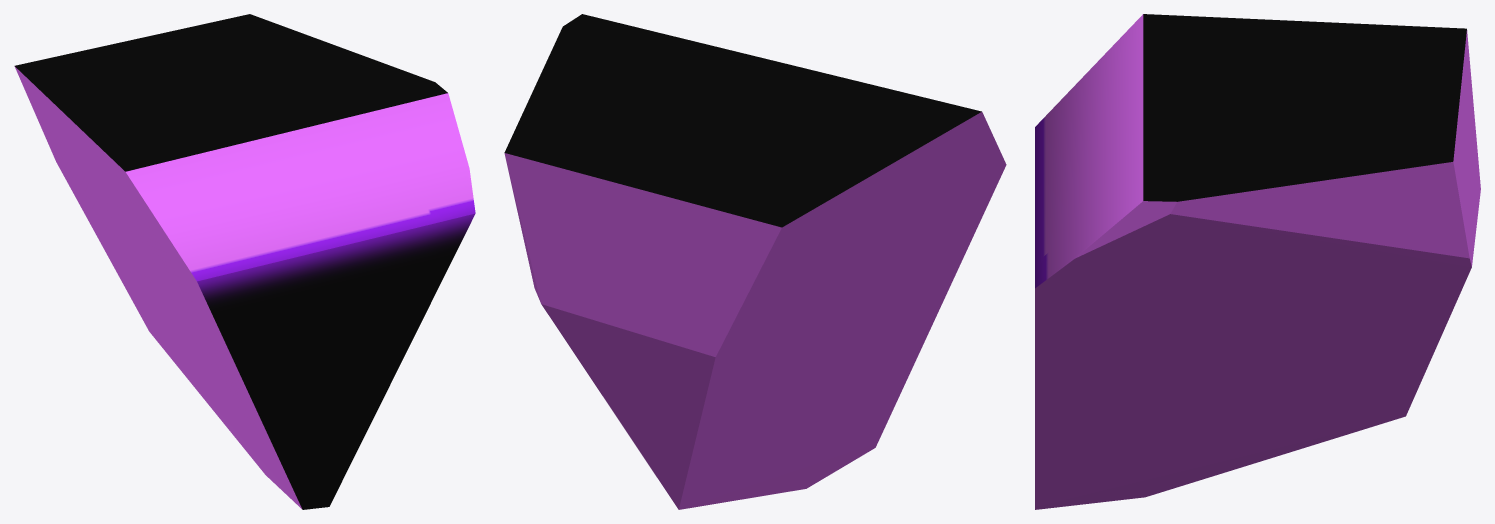
File: blockParticle_3.gltf
3 renders of one model, left to right at view 1: azimuth 30°, elevation 25°; view 2: azimuth 150°, elevation 25°; view 3: azimuth 270°, elevation 25°, orthographic. The views are drawn at different scales.
Parts seen in each view (by area): view 1: 立方体_cell.003; view 2: 立方体_cell.003; view 3: 立方体_cell.003.
Boxes of the visible parts, x1=… form: 立方体_cell.003: x1=14, y1=14, x2=475, y2=509; 立方体_cell.003: x1=504, y1=14, x2=1006, y2=509; 立方体_cell.003: x1=1035, y1=14, x2=1480, y2=509.
Size of the model in its own units: 0.8706 by 0.8736 by 0.8734.
2 materials, 2 textured.
